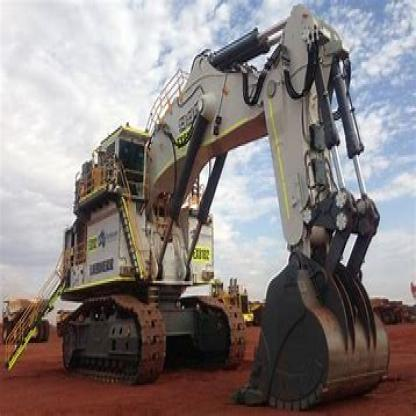excavator: (52, 9, 392, 407)
